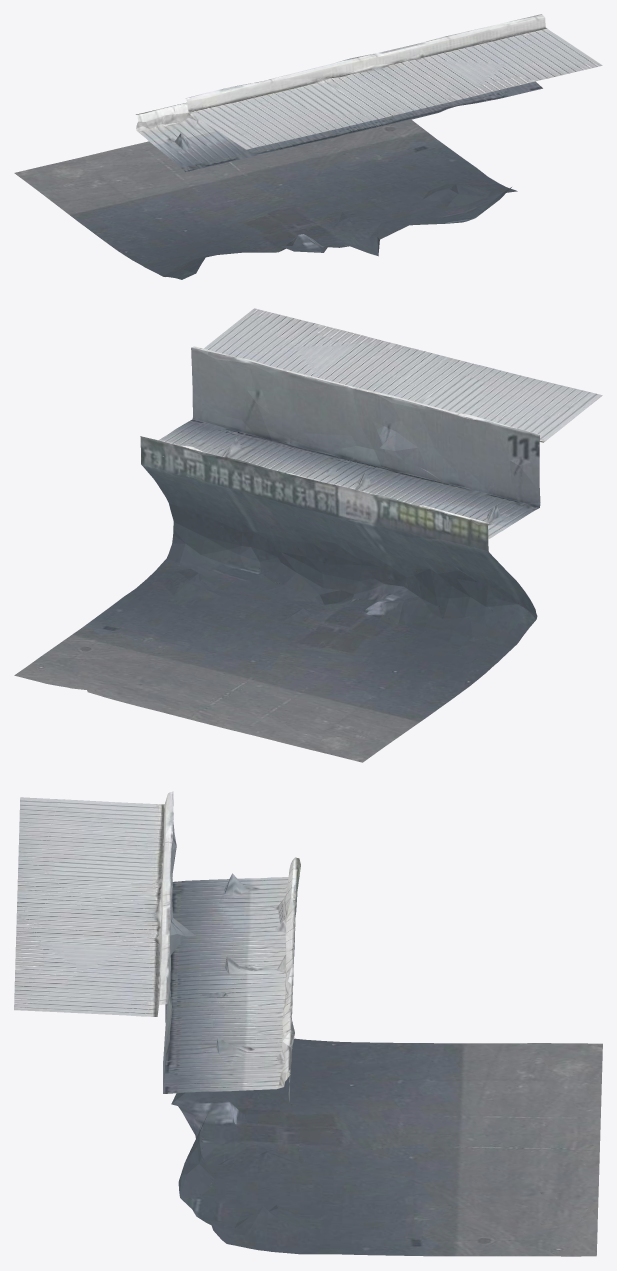
The model's file is Tile_+006_+006_L20_0uuuu03.glb.
3 views of the same model, one above another, from view 1: azimuth 30°, elevation 25°; view 2: azimuth 150°, elevation 25°; view 3: azimuth 270°, elevation 25° (orthographic). The views are drawn at different scales.
Parts seen in each view (by area): view 1: rtc; view 2: rtc; view 3: rtc.
Part boxes in pixels (x1,y1,x2,y2): rtc: (14,14,602,279); rtc: (14,308,602,762); rtc: (14,791,602,1256).
Bounding box in the file's own units: 24.2 × 13.95 × 27.97.
Materials: 3 (3 with a texture image).
